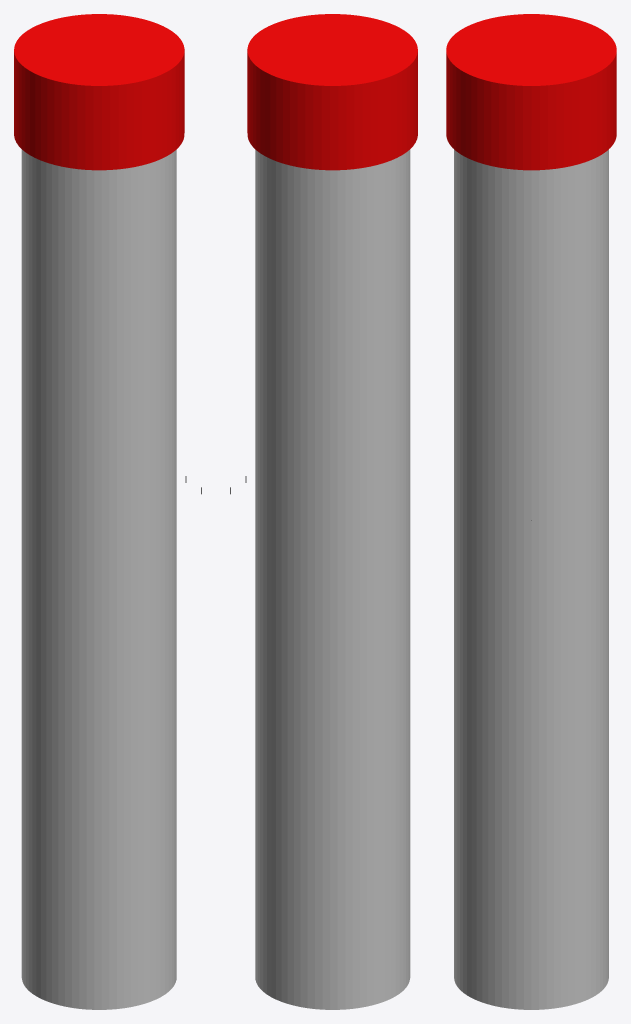
The picture shows the model from 3 angles, left to right: view 1: azimuth 30°, elevation 25°; view 2: azimuth 150°, elevation 25°; view 3: azimuth 270°, elevation 25°; orthographic projection.
Parts seen in each view (by area): view 1: TubeBody, TubeCap; view 2: TubeBody, TubeCap; view 3: TubeBody, TubeCap.
Boxes of the visible parts, x1=… form: TubeBody: x1=21, y1=149, x2=176, y2=1009; TubeCap: x1=14, y1=14, x2=184, y2=170; TubeBody: x1=255, y1=149, x2=410, y2=1009; TubeCap: x1=247, y1=14, x2=417, y2=170; TubeBody: x1=454, y1=149, x2=608, y2=1009; TubeCap: x1=446, y1=14, x2=616, y2=170.
Size of the model in its own units: 110 by 660 by 110.
